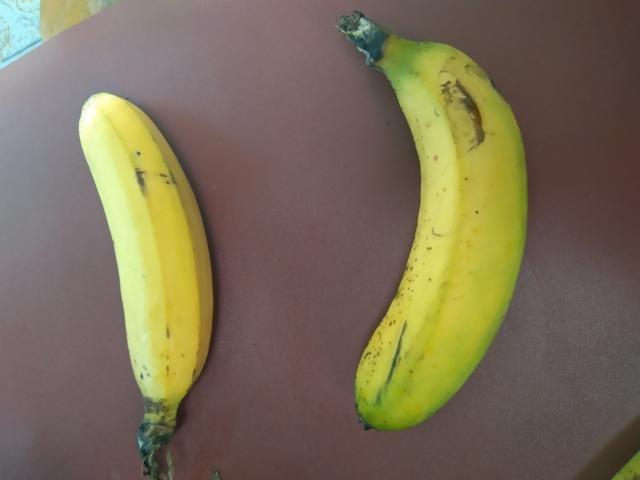freshripe: (70, 73, 239, 475)
ripe: (340, 23, 574, 479)
